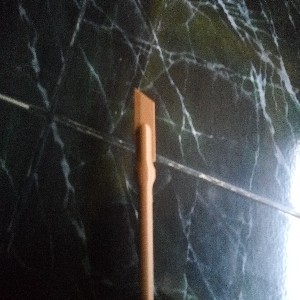cutter: (132, 87, 158, 300)
